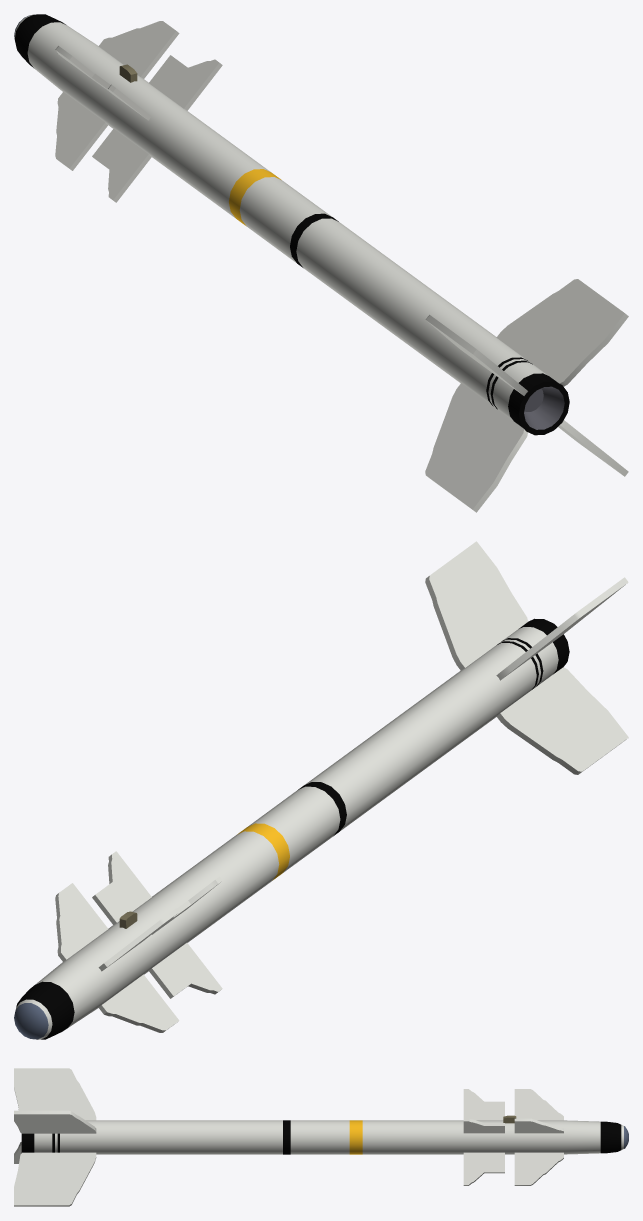
Rendered from magic2.glb.
The picture shows the model from 3 angles, top to bottom: view 1: azimuth 30°, elevation 25°; view 2: azimuth 150°, elevation 25°; view 3: azimuth 270°, elevation 25°; orthographic projection. The views are drawn at different scales.
Visible parts, largest first — view 1: magic2; view 2: magic2; view 3: magic2.
Boxes of the visible parts, x1,y1,x2,y2 form: magic2: (14, 14, 628, 512); magic2: (14, 541, 628, 1039); magic2: (14, 1068, 628, 1206).
Size of the model in its own units: 0.4873 by 0.4877 by 2.83.
